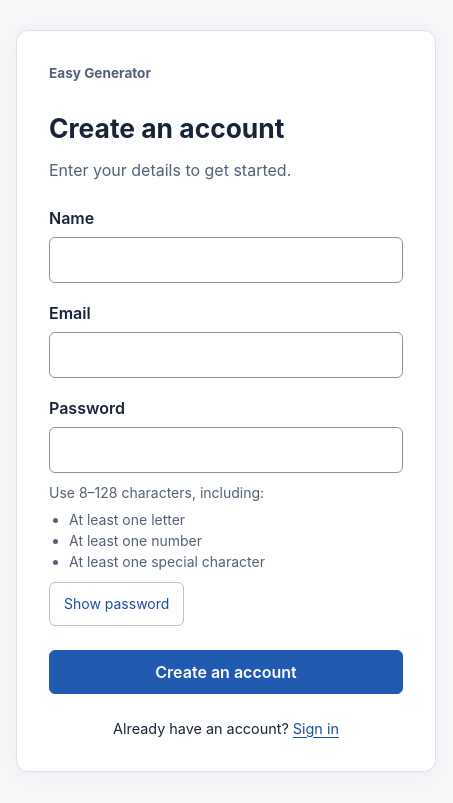
Test case: browser auth state › applies shared browser bounds for password
Check: the heading "Create an account" is shown, box [49,112,284,144]
Type "Ada" into the field with id "name" at x=226, y=260, box [49,236,403,282]
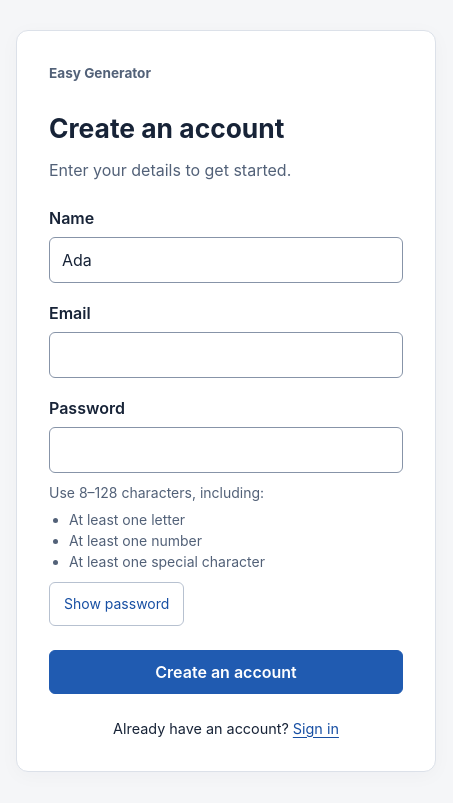
Type "ada@example.com" into the field with id "email" at x=226, y=354, box [49,332,403,378]
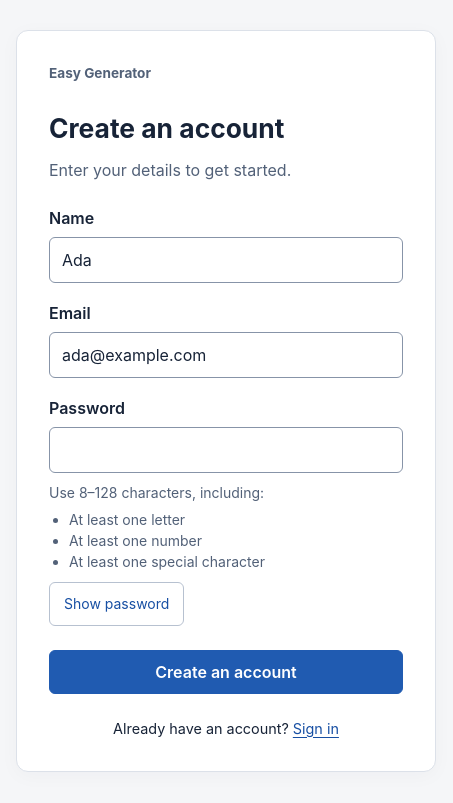
Type "字١!😀😀😀😀" into the password field labelled "Password" at x=226, y=450, box [49,426,403,472]
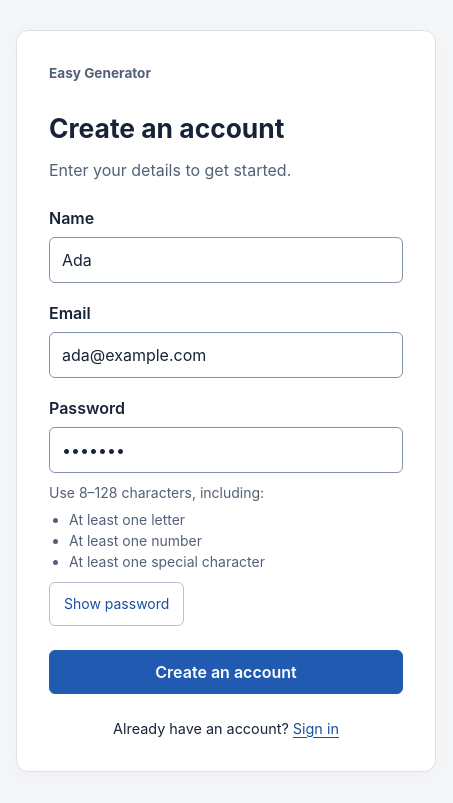
Click the button "Create an account" at x=226, y=672, box [49,650,403,694]
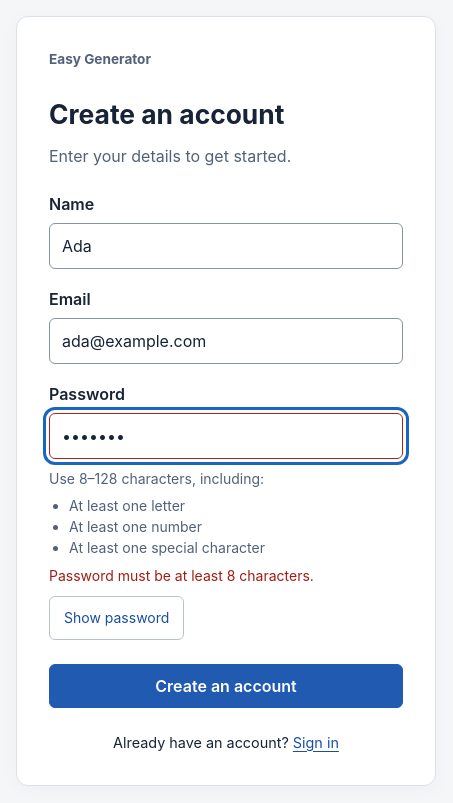
Check: the text "Password must be at least 8 characters." is shown, box [49,566,314,584]
